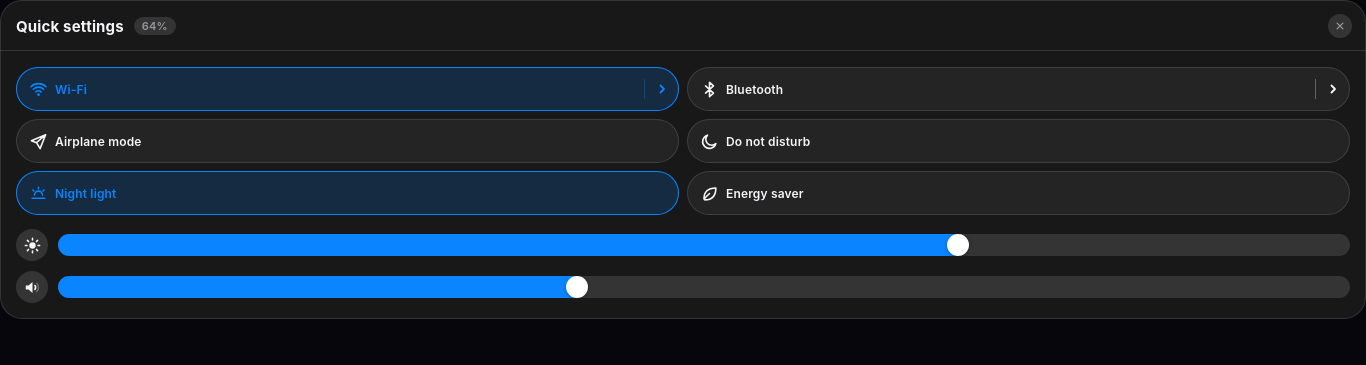
Scenario: a switch that fails goes back and says why
Step 1. Click the switch labelled "Bluetooth" → (755, 89), box [687,67,1315,111]
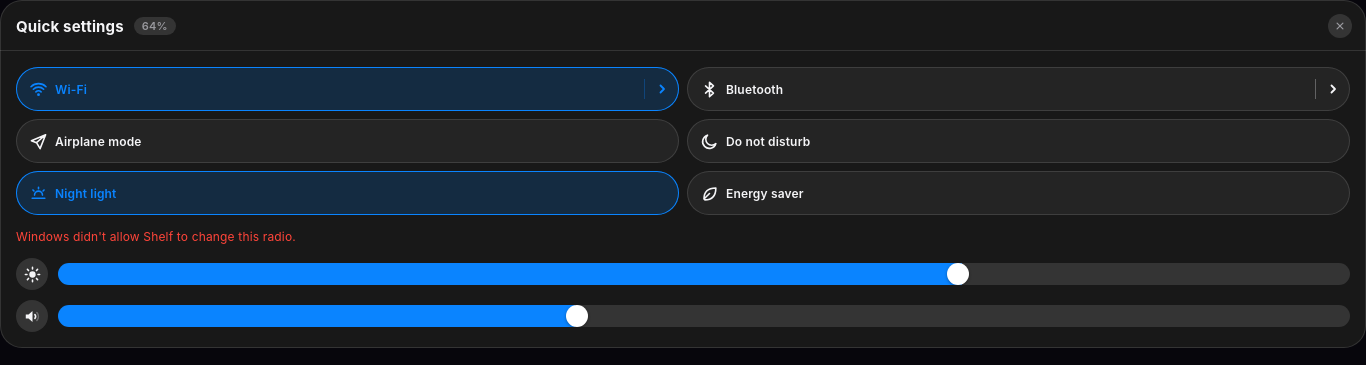
Result: the text "Windows didn't allow Shelf to change this radio." is shown at [16,229,296,244]
